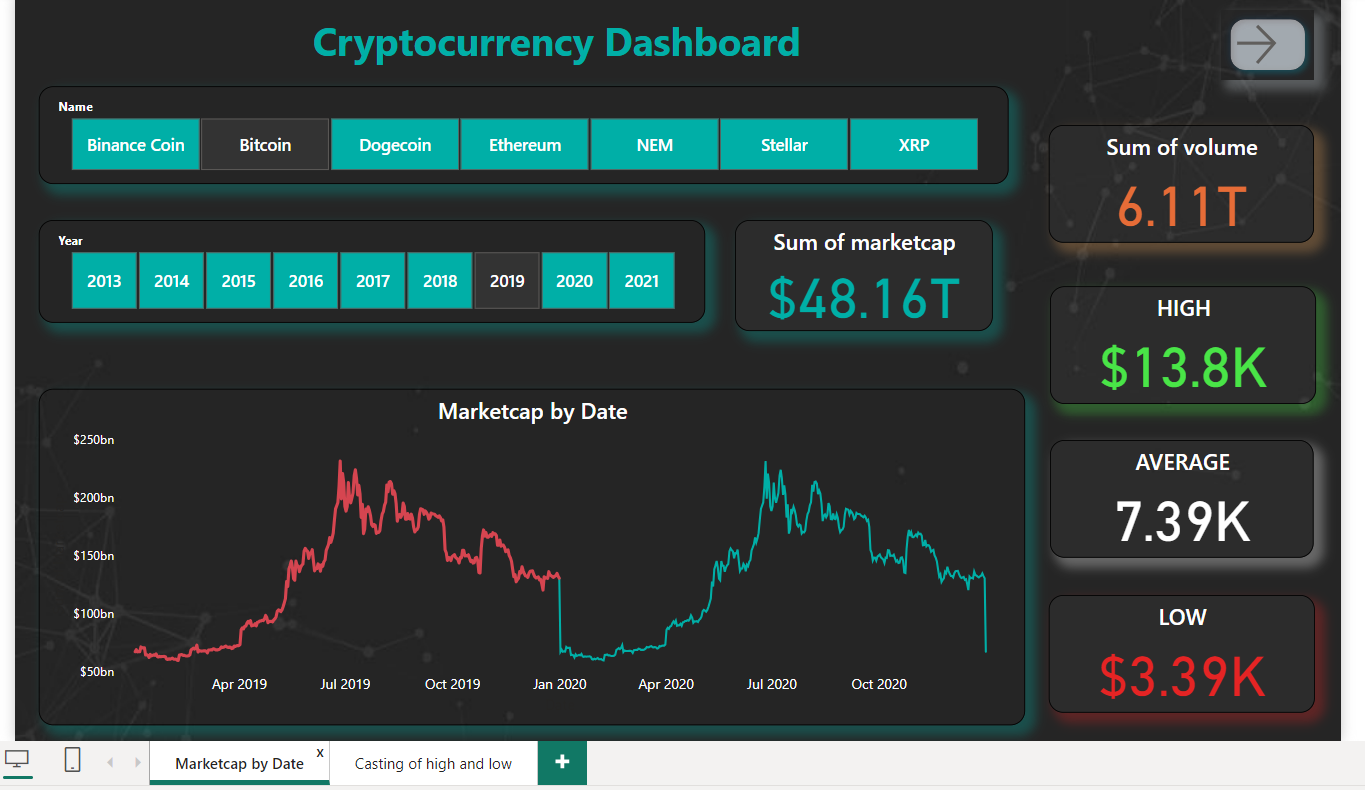

This screenshot's page, from the dashboard's own definition file:
{"tool":"powerbi","page":{"name":"Marketcap by Date","canvas":[1280,720],"ordinal":0},"visuals":[{"type":"slicer","fields":{"Values":["cleaned_cryptocurrency_data.Name"]},"box":[22.9,88.1,936.2,94.1],"z":0},{"type":"slicer","fields":{"Values":["cleaned_cryptocurrency_data.Year"]},"box":[22.9,217.2,643,98.9],"z":1000},{"type":"lineChart","title":"Marketcap by Date","fields":{"Y":["Sum(cleaned_cryptocurrency_data.Marketcap)"],"Category":["cleaned_cryptocurrency_data.Date"]},"box":[22.9,380,951.9,324.5],"z":2000},{"type":"actionButton","box":[1164.5,14.3,89.8,67],"z":3000},{"type":"card","title":"HIGH","fields":{"Values":["Max(cleaned_cryptocurrency_data.High)"]},"box":[998.9,281.1,257,113.4],"z":4000},{"type":"card","title":"Sum of volume","fields":{"Values":["Sum(cleaned_cryptocurrency_data.Volume)"]},"box":[997.7,125.5,255.8,113.4],"z":5000},{"type":"card","title":"Sum of marketcap","fields":{"Values":["Sum(cleaned_cryptocurrency_data.Marketcap)"]},"box":[694.9,217.2,248.5,107.4],"z":6000},{"type":"card","title":"AVERAGE","fields":{"Values":["Avg(cleaned_cryptocurrency_data.Average)"]},"box":[998.9,429.5,254.6,113.4],"z":7000},{"type":"card","title":"LOW","fields":{"Values":["Min(cleaned_cryptocurrency_data.Low)"]},"box":[997.7,579.1,257,113.4],"z":8000},{"type":"textbox","box":[199.1,14.5,647.9,67.6],"z":9000}]}

Visuals, with their boxes on the page's 1280x720 design canvas (x1, y1, x2, y2). These are canvas units, not pixel positions in the 1365x790 screenshot, which may show the page scaled, cropped or inside an application window:
slicer - cleaned_cryptocurrency_data.Name: {"x1": 23, "y1": 88, "x2": 959, "y2": 182}
slicer - cleaned_cryptocurrency_data.Year: {"x1": 23, "y1": 217, "x2": 666, "y2": 316}
"Marketcap by Date" lineChart: {"x1": 23, "y1": 380, "x2": 975, "y2": 704}
actionButton: {"x1": 1164, "y1": 14, "x2": 1254, "y2": 81}
"HIGH" card: {"x1": 999, "y1": 281, "x2": 1256, "y2": 394}
"Sum of volume" card: {"x1": 998, "y1": 126, "x2": 1254, "y2": 239}
"Sum of marketcap" card: {"x1": 695, "y1": 217, "x2": 943, "y2": 325}
"AVERAGE" card: {"x1": 999, "y1": 430, "x2": 1254, "y2": 543}
"LOW" card: {"x1": 998, "y1": 579, "x2": 1255, "y2": 692}
textbox: {"x1": 199, "y1": 14, "x2": 847, "y2": 82}
